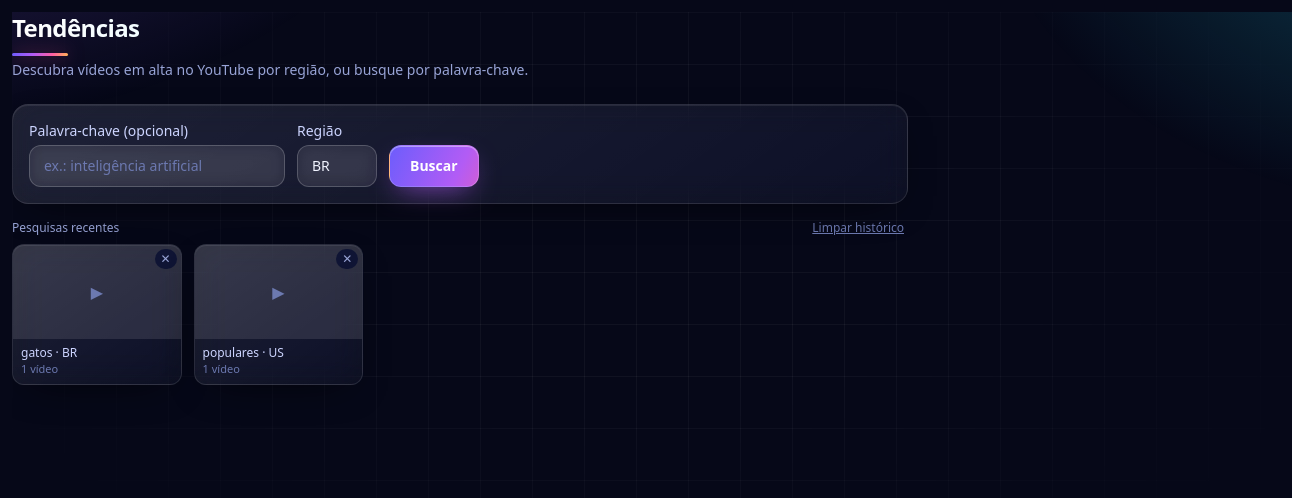
Test: TrendsPage › exclusão de pesquisas › mostra erro e mantém a pesquisa se a exclusão falha
Click the button named "Excluir pesquisa gatos · BR": (166, 259) [154,249,177,269]
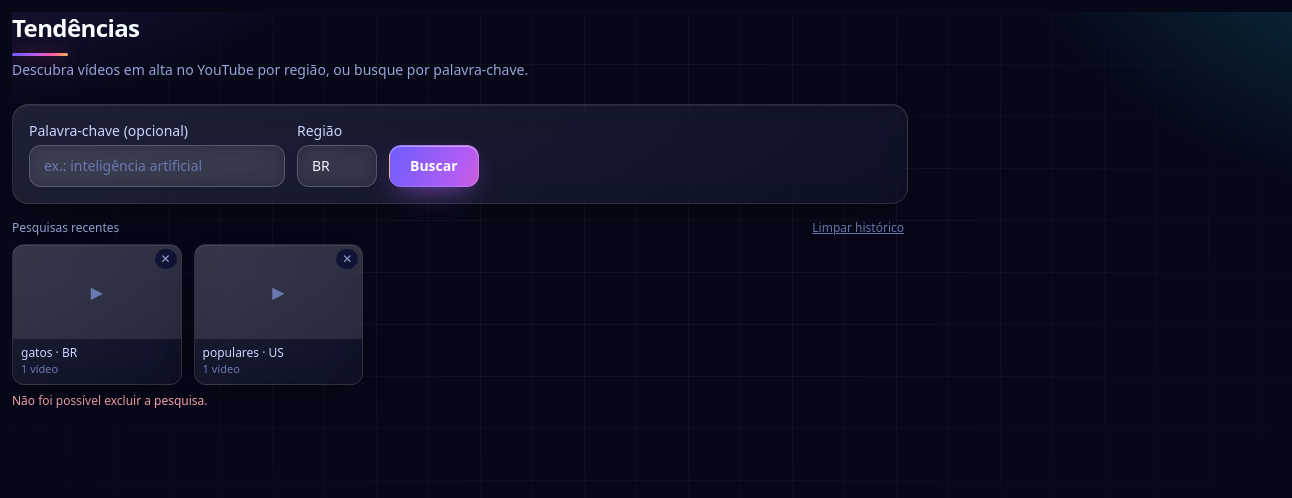
Expected: the button "▶ gatos · BR" is shown, [13,245,181,361]
Now the text "Não foi possível excluir a pesquisa." is shown, box [12,392,208,409]
